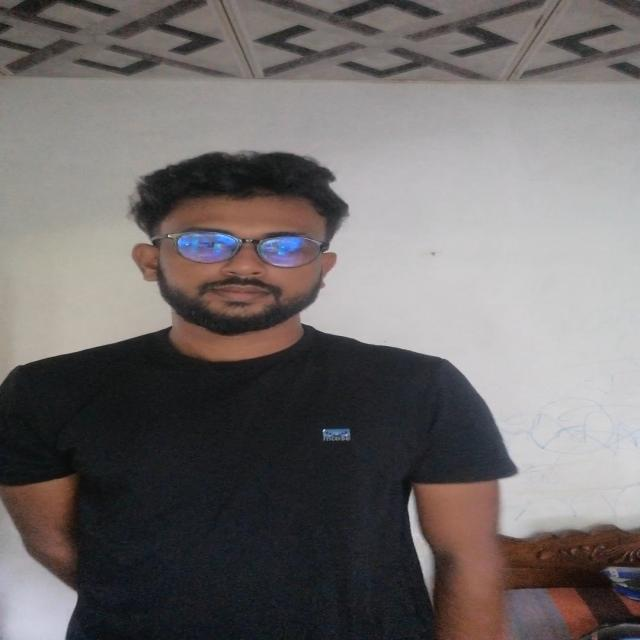Person: (0, 142, 539, 639)
